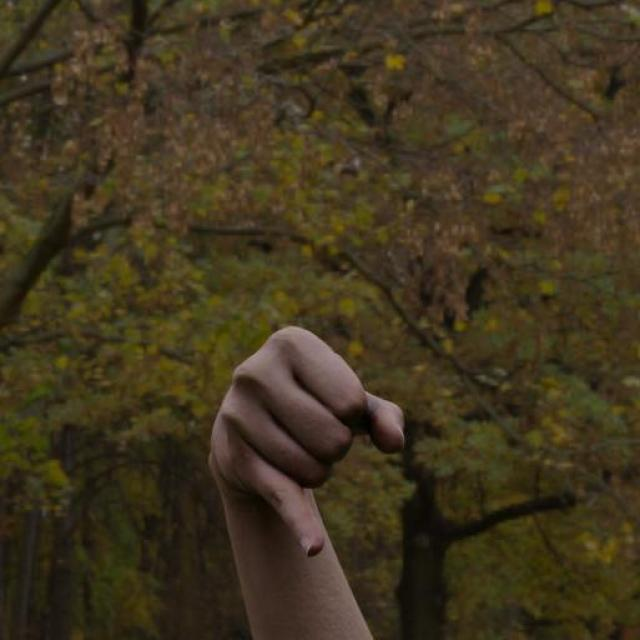J: (207, 322, 407, 558)
